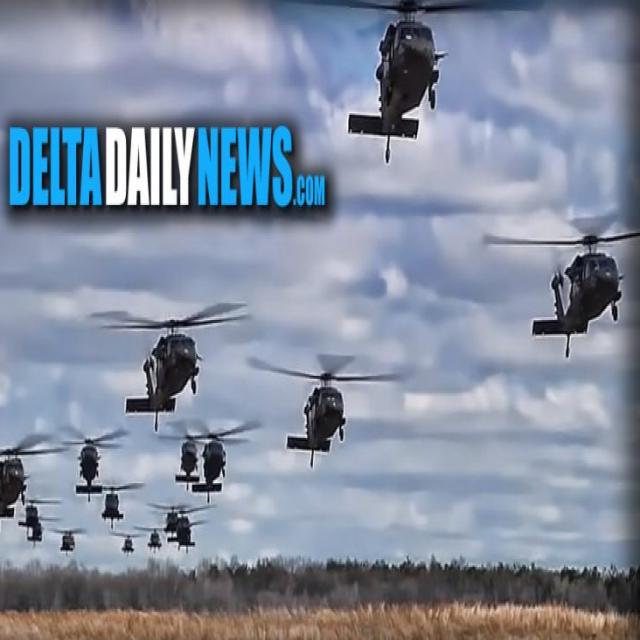helicopter: (304, 1, 528, 155), (475, 215, 640, 346), (254, 356, 402, 463), (94, 313, 232, 424), (1, 444, 43, 526), (73, 430, 112, 503), (172, 427, 202, 494), (209, 431, 236, 498), (27, 501, 63, 551), (50, 531, 91, 566), (100, 483, 134, 525), (178, 514, 209, 556), (144, 519, 170, 553), (165, 503, 190, 538), (124, 531, 136, 559)
